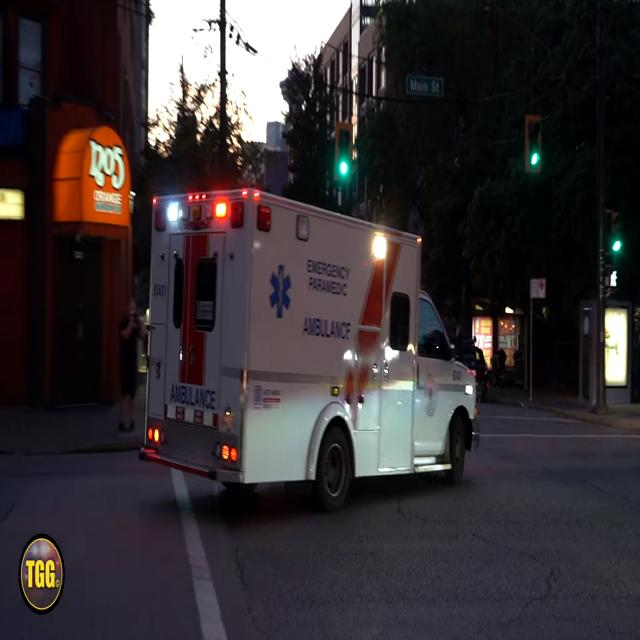emergency-vehicles: (132, 179, 482, 522)
